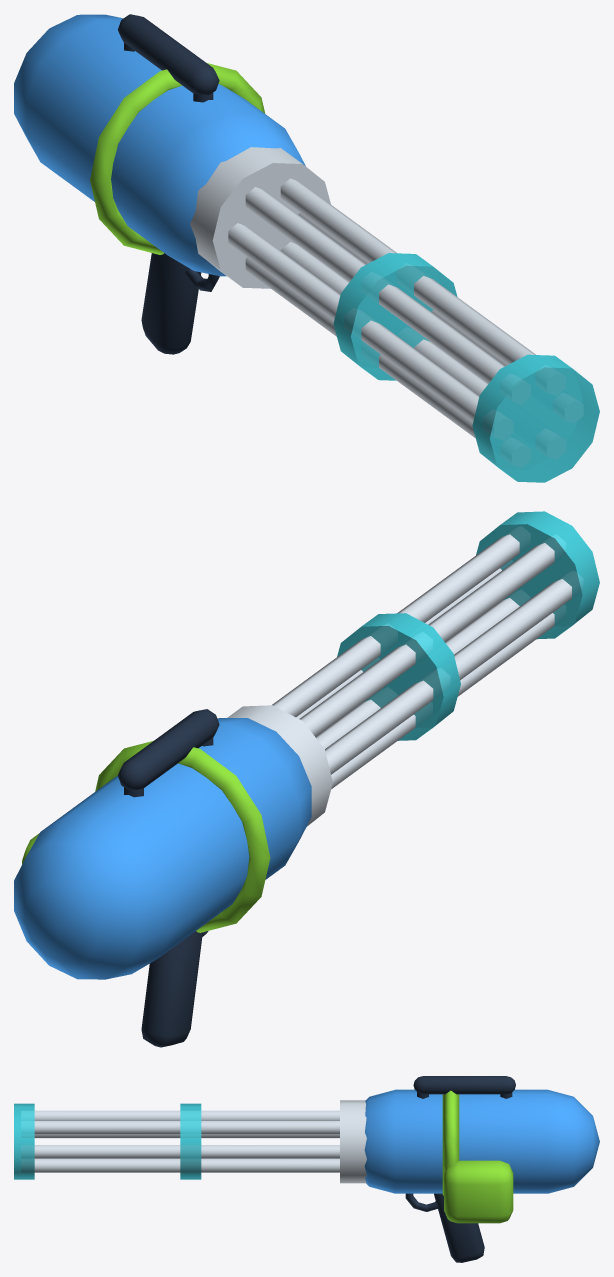
File: Minigun.fbx
The picture shows the model from 3 angles, top to bottom: view 1: azimuth 30°, elevation 25°; view 2: azimuth 150°, elevation 25°; view 3: azimuth 270°, elevation 25°; orthographic projection. The views are drawn at different scales.
Parts seen in each view (by area): view 1: Minigun; view 2: Minigun; view 3: Minigun.
Part boxes in pixels (x1,y1,x2,y2): Minigun: (14, 14, 599, 482); Minigun: (14, 511, 599, 1047); Minigun: (14, 1076, 599, 1262).
Size of the model in its own units: 0.205 by 0.2947 by 0.845.
